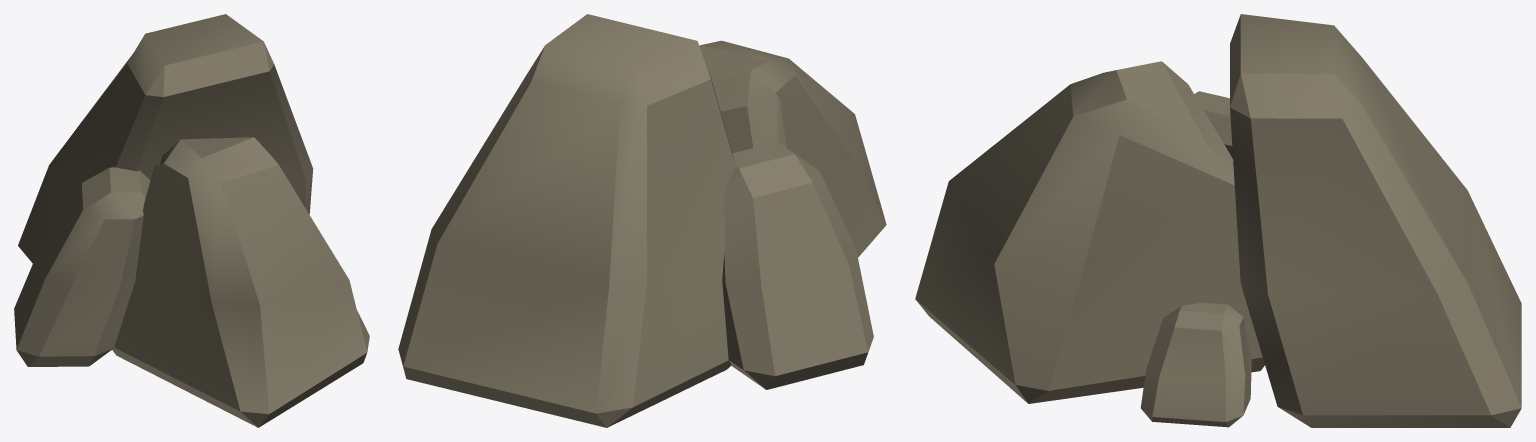
File: Rock3.fbx
3 views of the same model, side by side, from view 1: azimuth 30°, elevation 25°; view 2: azimuth 150°, elevation 25°; view 3: azimuth 270°, elevation 25° (orthographic). The views are drawn at different scales.
Parts seen in each view (by area): view 1: Rock3; view 2: Rock3; view 3: Rock3.
Boxes of the visible parts, x1,y1,x2,y2 form: Rock3: (14,14,369,427); Rock3: (398,14,886,427); Rock3: (915,14,1521,427).
Size of the model in its own units: 0.6184 by 0.4856 by 0.8279.
